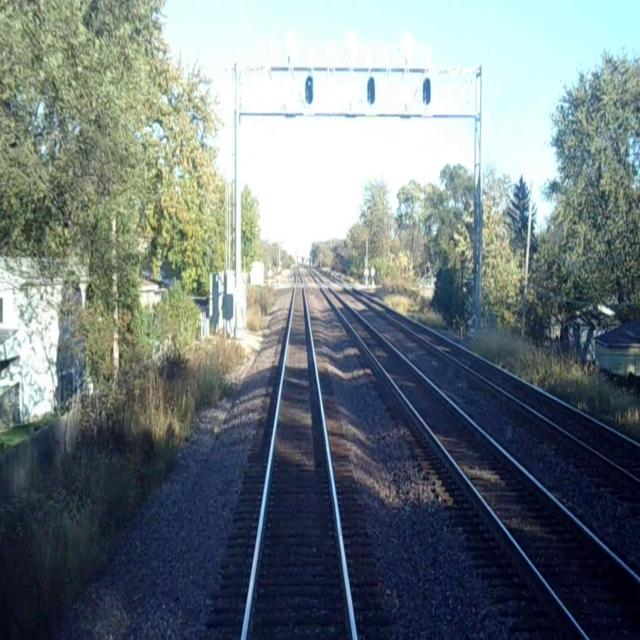rail-track: (307, 267, 640, 639), (334, 279, 640, 478), (245, 267, 352, 639)
